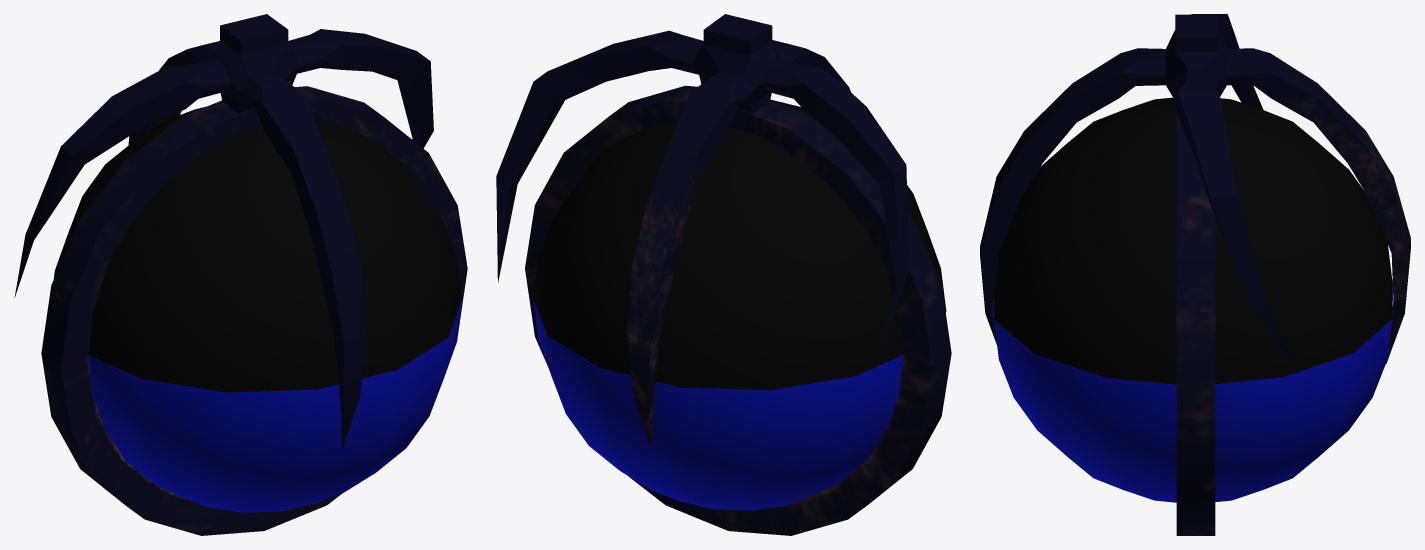
The model's file is Chemical Globe (Ceiling).fbx.
3 views of the same model, side by side, from view 1: azimuth 30°, elevation 25°; view 2: azimuth 150°, elevation 25°; view 3: azimuth 270°, elevation 25° (orthographic).
Parts seen in each view (by area): view 1: polySurface25; view 2: polySurface25; view 3: polySurface25.
Part boxes in pixels (x1,y1,x2,y2): polySurface25: [14, 14, 467, 535]; polySurface25: [496, 14, 951, 535]; polySurface25: [980, 14, 1410, 535].
Size of the model in its own units: 209 by 241 by 192.
